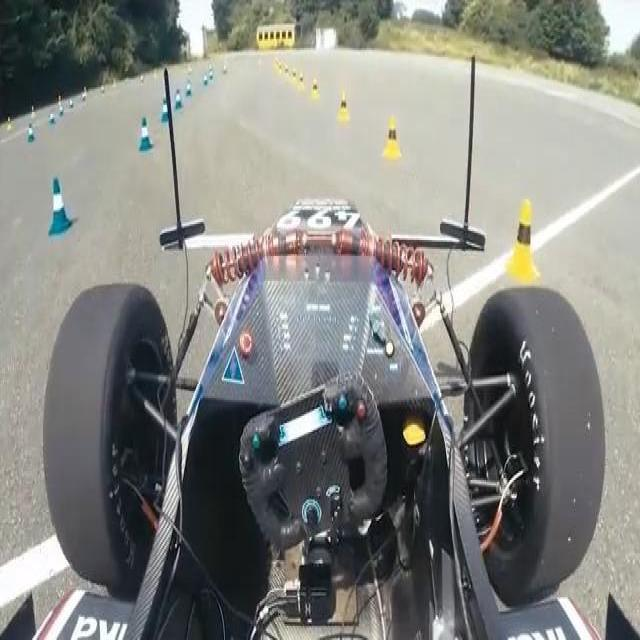blue_cone: (44, 174, 72, 235), (136, 114, 152, 152), (171, 84, 183, 115), (160, 96, 169, 125), (26, 121, 35, 144), (184, 76, 191, 100), (49, 112, 56, 129), (203, 73, 208, 91), (209, 68, 214, 86), (58, 105, 63, 122)
yellow_cone: (502, 196, 537, 282), (381, 114, 400, 159), (338, 92, 352, 124), (311, 76, 321, 102), (291, 66, 299, 87), (298, 69, 305, 91), (29, 103, 36, 122), (284, 64, 290, 83), (56, 92, 62, 110), (7, 114, 12, 134)
